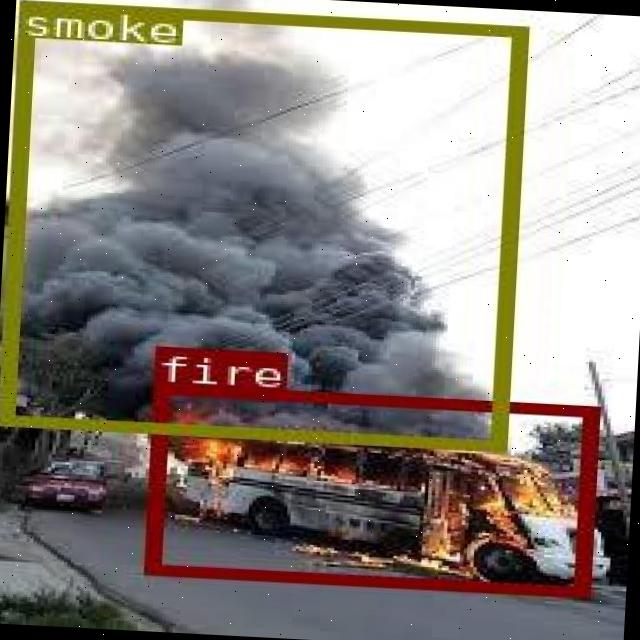fire: (143, 382, 598, 596)
smoke: (0, 0, 523, 448)
